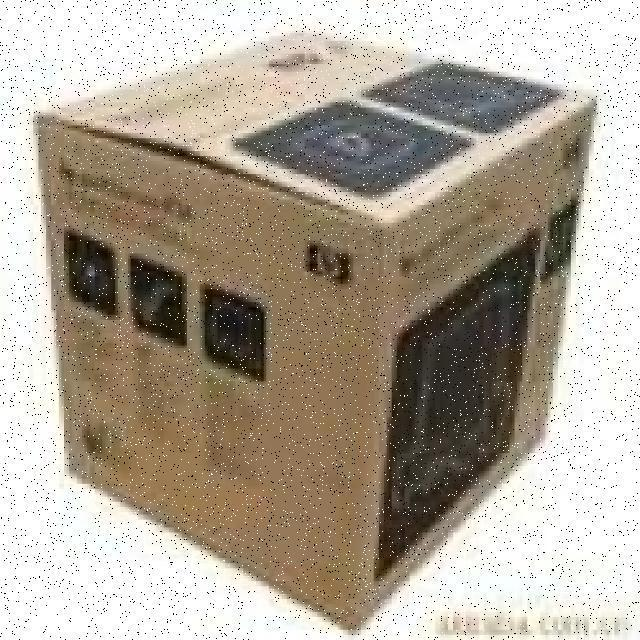box: (5, 13, 620, 640)
